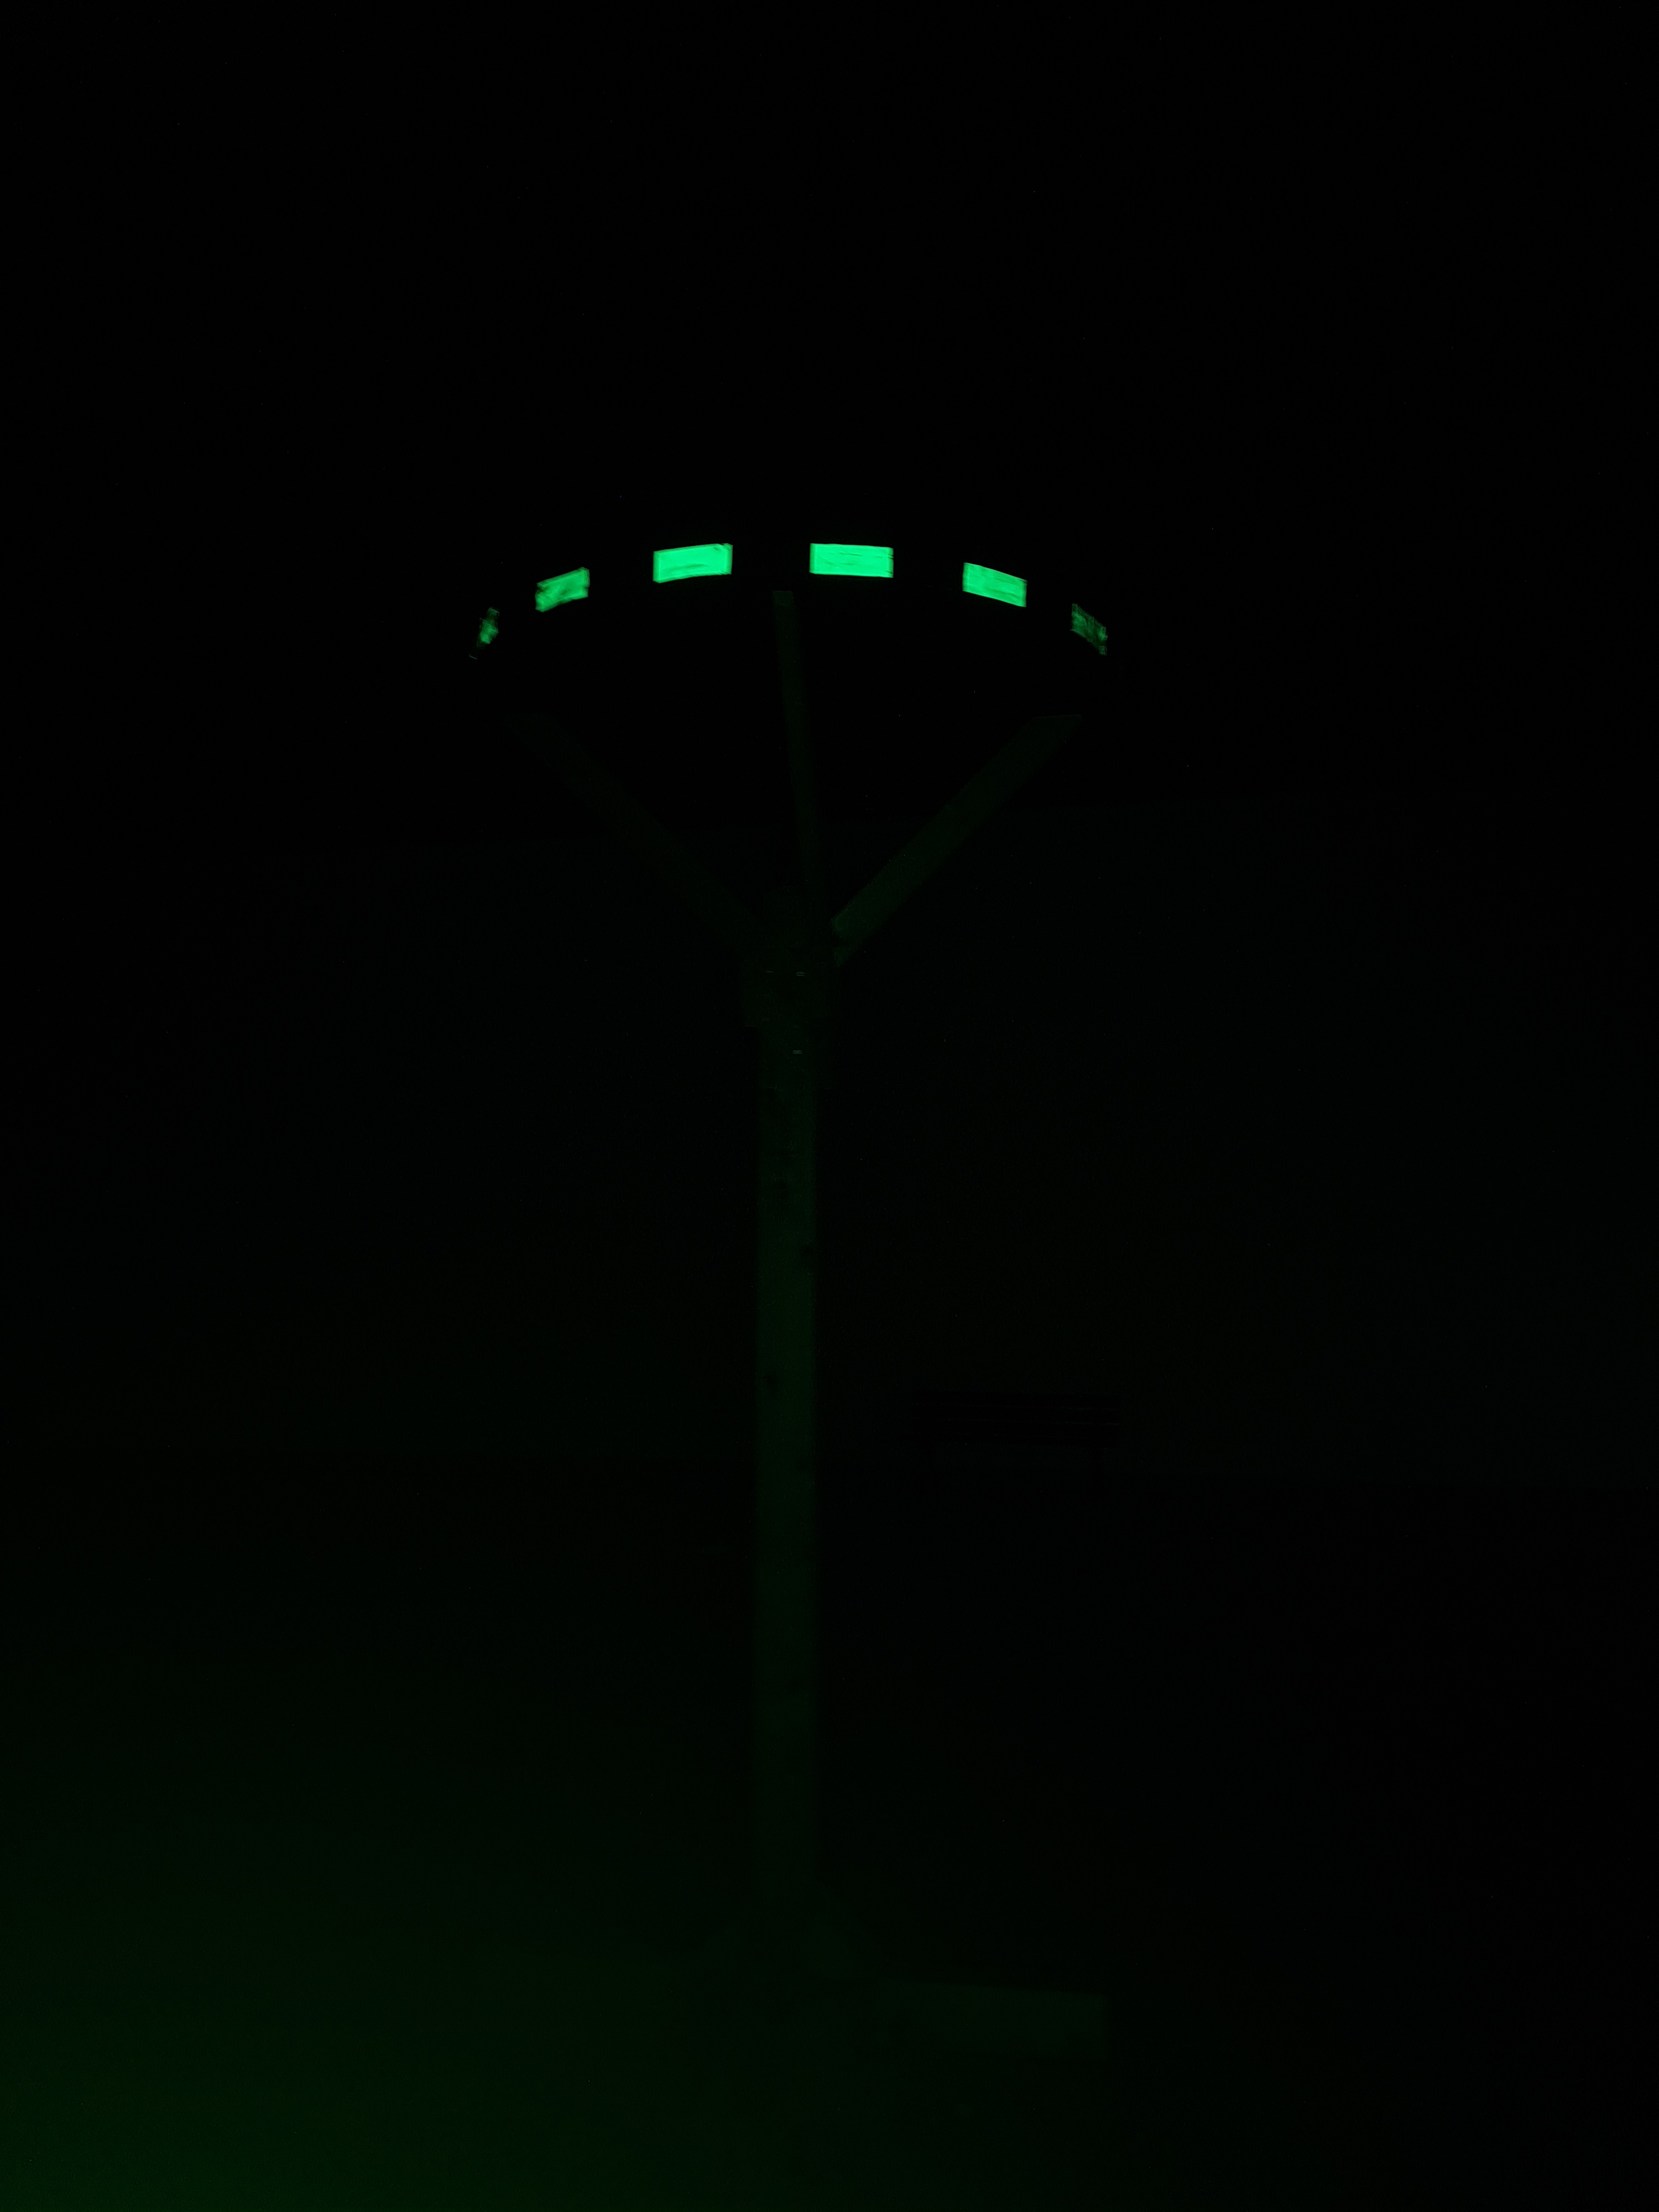hoop: (481, 543, 1112, 657)
